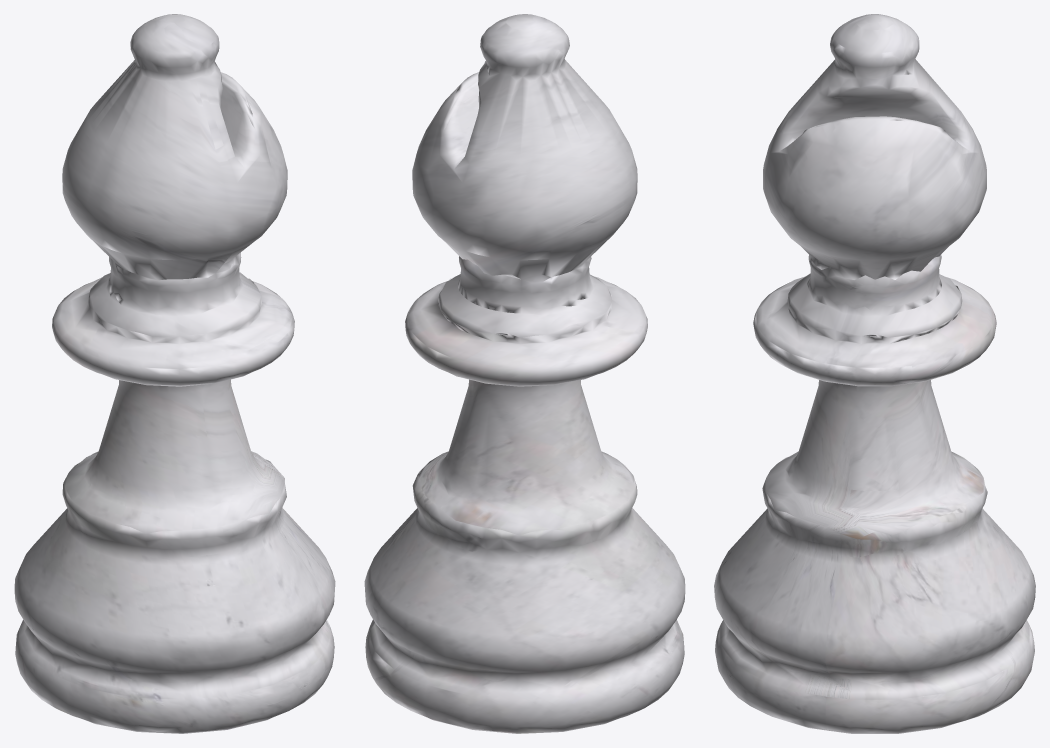
File: white_bishop.glb
The picture shows the model from 3 angles, left to right: view 1: azimuth 30°, elevation 25°; view 2: azimuth 150°, elevation 25°; view 3: azimuth 270°, elevation 25°; orthographic projection.
Visible parts, largest first — view 1: Circle.023; view 2: Circle.023; view 3: Circle.023.
Part boxes in pixels (x1,y1,x2,y2): Circle.023: [14, 14, 335, 733]; Circle.023: [364, 14, 685, 733]; Circle.023: [714, 14, 1035, 733].
Bounding box in the file's own units: 1.25 × 2.83 × 1.25.
1 material, 1 textured.
